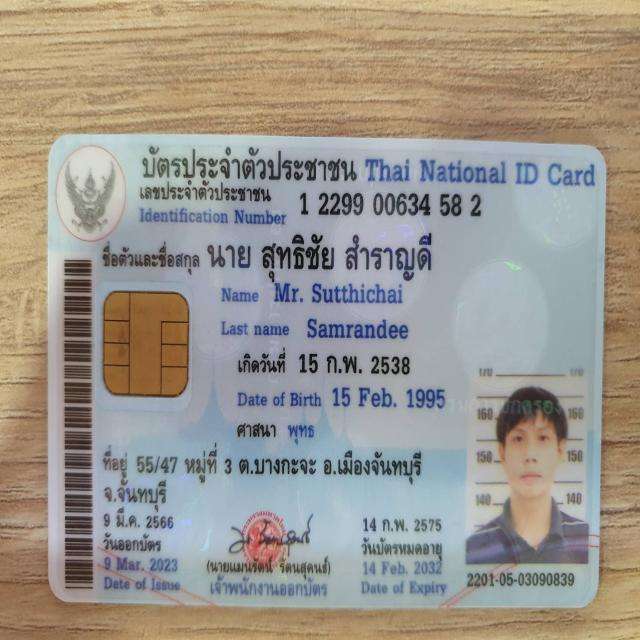Address_th: (100, 441, 432, 516)
Date_of_Birth: (329, 380, 448, 414)
Date_of_Expiry: (361, 557, 444, 579)
Date_of_Issue: (101, 553, 181, 575)
First_Name: (273, 282, 405, 310)
ID_Number: (293, 186, 490, 224)
Image: (471, 366, 586, 565)
Last_Name: (299, 312, 413, 346)
Thai_Name: (206, 226, 449, 282)
